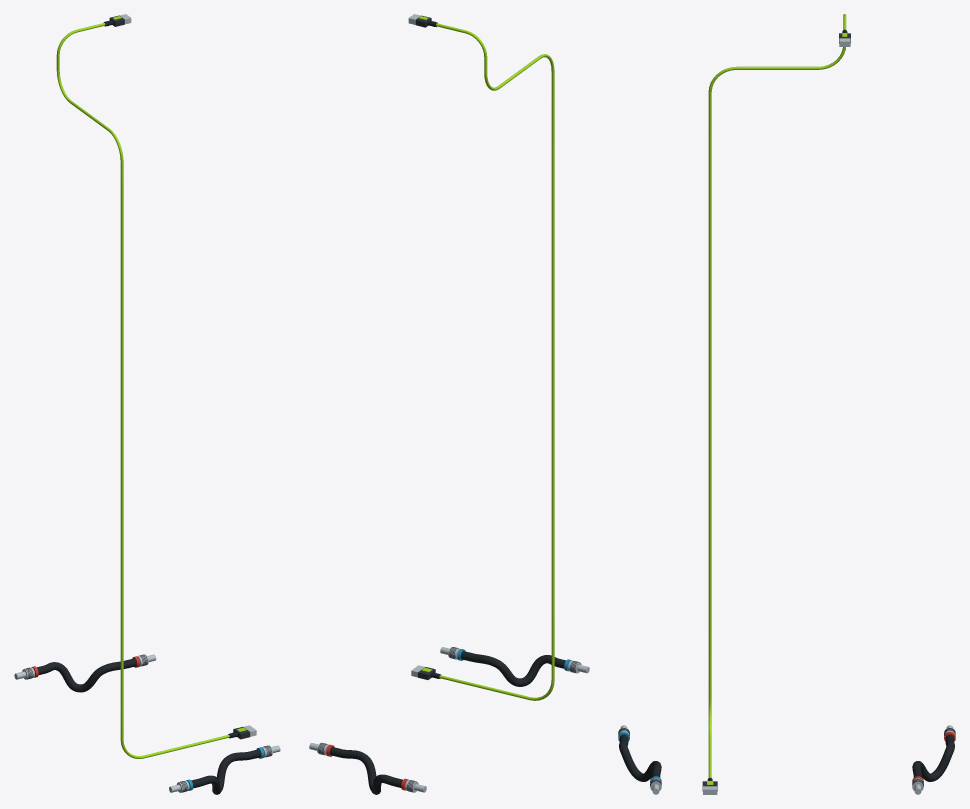
Rendered from SM_GJ_Harness_05.fbx.
The picture shows the model from 3 angles, left to right: view 1: azimuth 30°, elevation 25°; view 2: azimuth 150°, elevation 25°; view 3: azimuth 270°, elevation 25°; orthographic projection. The views are drawn at different scales.
Parts seen in each view (by area): view 1: SM_GJ_Harness_05; view 2: SM_GJ_Harness_05; view 3: SM_GJ_Harness_05.
Part boxes in pixels (x1,y1,x2,y2): SM_GJ_Harness_05: [14, 14, 280, 794]; SM_GJ_Harness_05: [309, 14, 589, 794]; SM_GJ_Harness_05: [618, 14, 955, 794].
Size of the model in its own units: 24.23 by 50.76 by 123.
